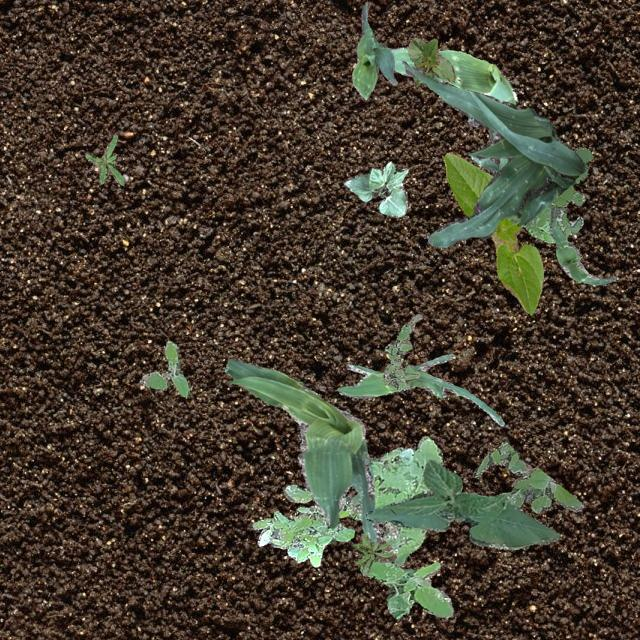crop: (401, 60, 584, 246), (223, 358, 379, 544), (364, 458, 558, 548), (389, 46, 516, 176), (442, 152, 542, 314), (336, 352, 502, 424), (548, 205, 614, 283), (351, 2, 396, 98), (342, 160, 408, 216), (406, 36, 454, 86)
weed: (348, 434, 442, 564), (252, 484, 361, 566), (504, 146, 592, 242), (472, 441, 584, 512), (366, 560, 452, 618), (379, 312, 422, 390), (138, 340, 188, 396), (84, 134, 124, 184), (352, 532, 396, 574)
